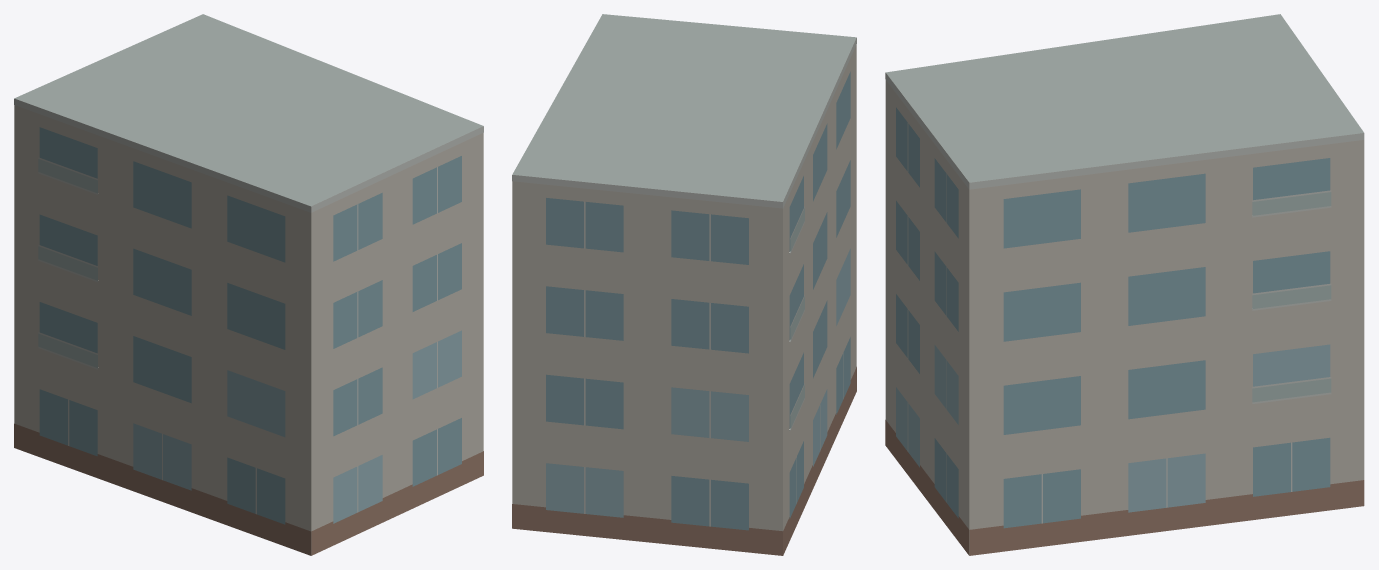
Rendered from survey-upis-32772869.glb.
The picture shows the model from 3 angles, left to right: view 1: azimuth 30°, elevation 25°; view 2: azimuth 150°, elevation 25°; view 3: azimuth 270°, elevation 25°; orthographic projection. The views are drawn at different scales.
Visible parts, largest first — view 1: survey-upis-32772869.tmp; view 2: survey-upis-32772869.tmp; view 3: survey-upis-32772869.tmp.
Part boxes in pixels (bbox=[...]): survey-upis-32772869.tmp: bbox=[14, 14, 483, 555]; survey-upis-32772869.tmp: bbox=[512, 14, 856, 555]; survey-upis-32772869.tmp: bbox=[885, 14, 1364, 555].
Size of the model in its own units: 12.82 by 13.2 by 15.36.
